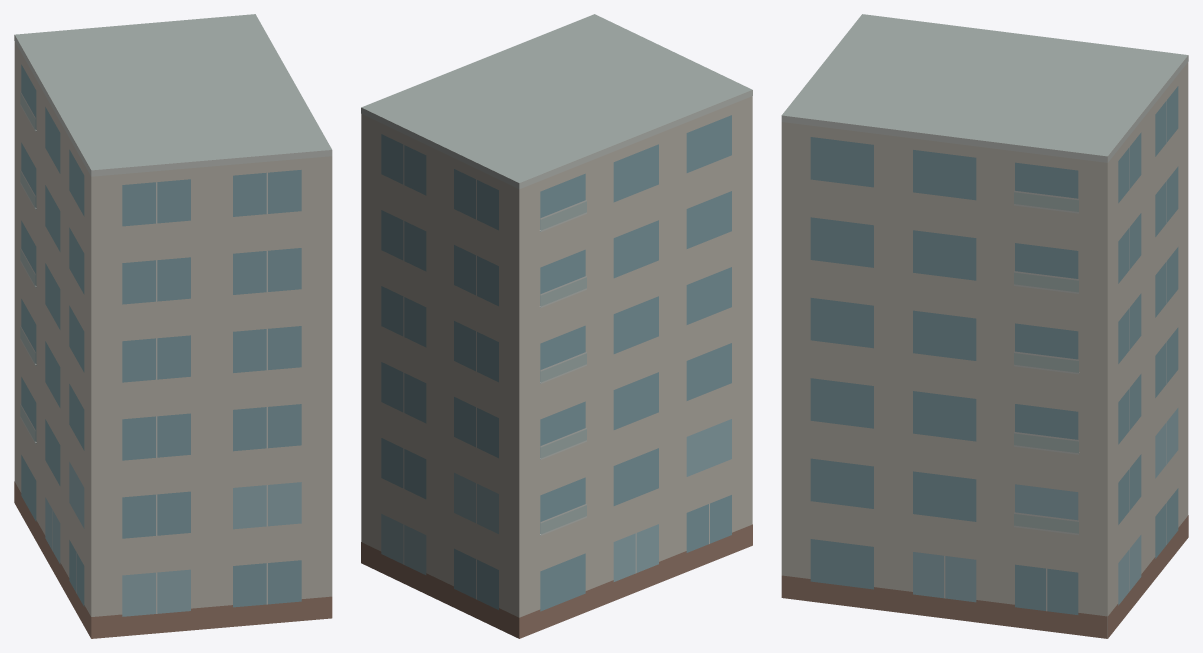
File: survey-upis-32958975.glb
3 views of the same model, side by side, from view 1: azimuth 30°, elevation 25°; view 2: azimuth 150°, elevation 25°; view 3: azimuth 270°, elevation 25° (orthographic). The views are drawn at different scales.
Parts seen in each view (by area): view 1: survey-upis-32958975.tmp; view 2: survey-upis-32958975.tmp; view 3: survey-upis-32958975.tmp.
Part boxes in pixels (x1,y1,x2,y2): survey-upis-32958975.tmp: [14, 14, 332, 638]; survey-upis-32958975.tmp: [361, 14, 752, 638]; survey-upis-32958975.tmp: [781, 14, 1188, 638].
Size of the model in its own units: 11.41 by 18 by 13.77.
